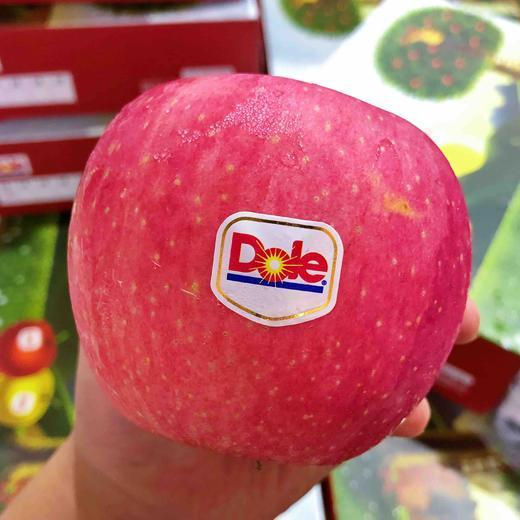apple: (67, 72, 471, 461)
